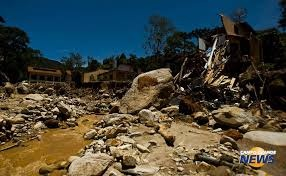rubble: (126, 51, 285, 128)
